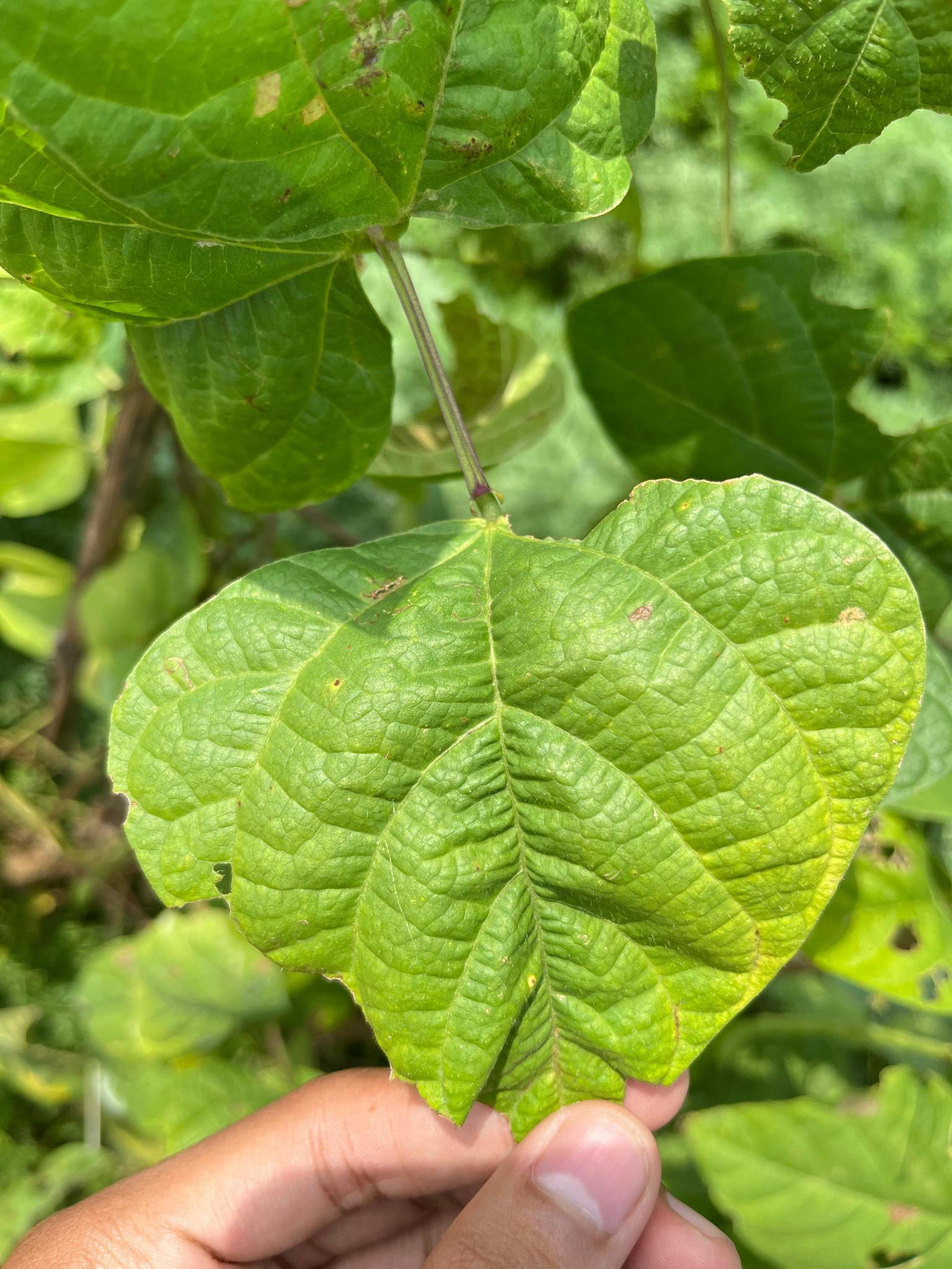sehat: (107, 484, 932, 1112)
